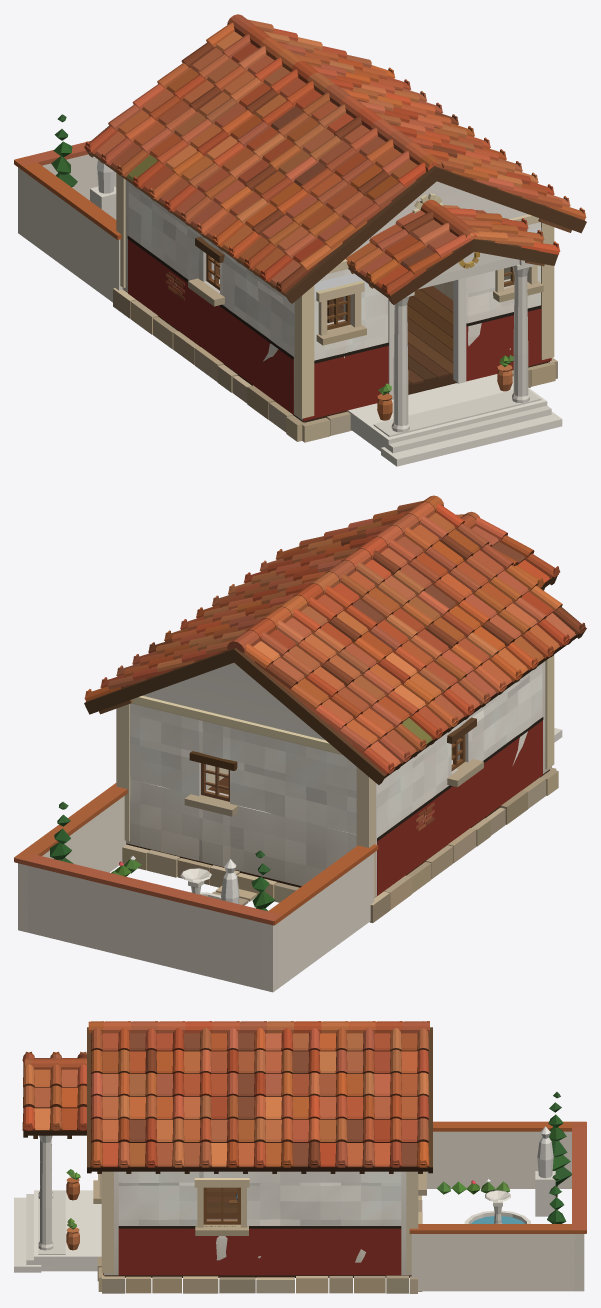
File: patrician_4_1.glb
3 renders of one model, top to bottom at view 1: azimuth 30°, elevation 25°; view 2: azimuth 150°, elevation 25°; view 3: azimuth 270°, elevation 25°, orthographic. The views are drawn at different scales.
Parts seen in each view (by area): view 1: House, Walls, Rooms; view 2: House, Walls; view 3: House, Walls, Rooms.
Part boxes in pixels (x1,y1,x2,y2): House: (14,14,586,466); Walls: (122,180,540,420); Rooms: (219,263,510,385); House: (14,495,586,992); Walls: (126,661,551,897); House: (14,1021,586,1293); Walls: (103,1171,411,1275); Rooms: (206,1187,237,1219).
Bounding box in the file's own units: 4.44 × 3.53 × 8.43.
4 materials, 4 textured.
